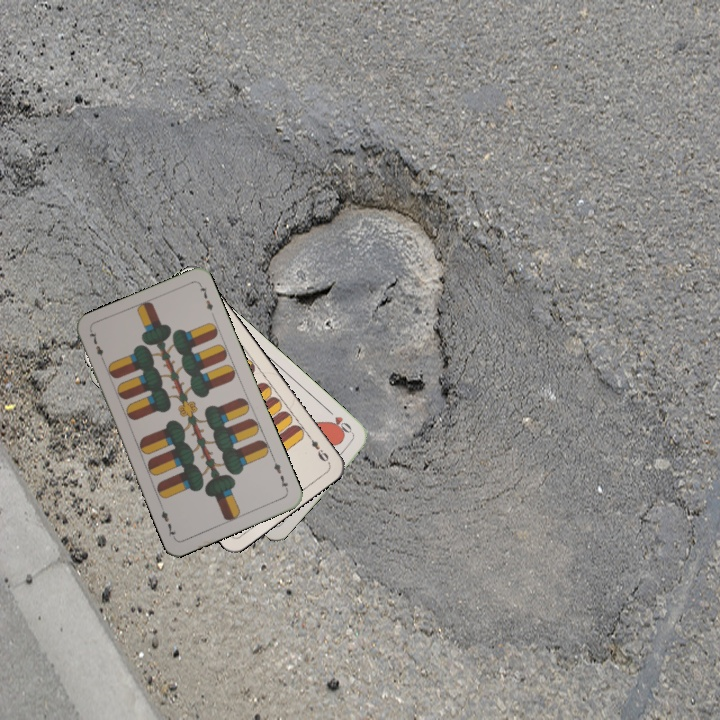E7: (269, 455, 291, 494), (86, 328, 108, 366)
E9: (303, 430, 332, 465)
HO: (324, 405, 357, 438)
